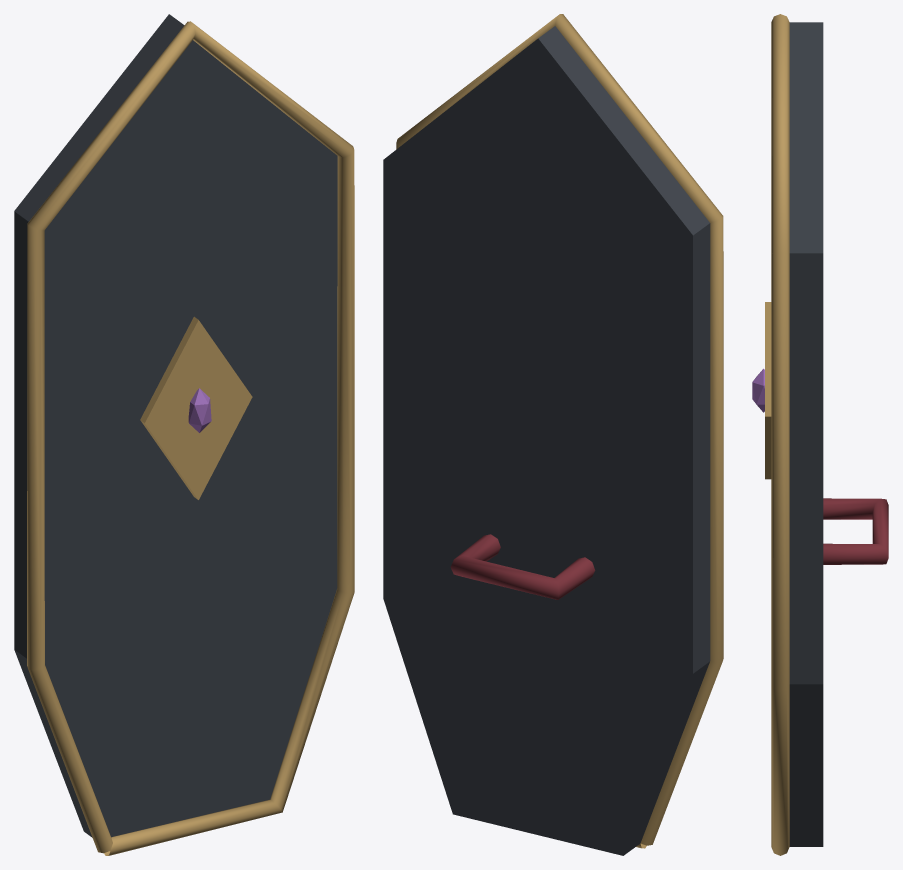
3 renders of one model, left to right at view 1: azimuth 30°, elevation 25°; view 2: azimuth 150°, elevation 25°; view 3: azimuth 270°, elevation 25°, orthographic.
Visible parts, largest first — view 1: TV-084 Tower Vigil; view 2: TV-084 Tower Vigil; view 3: TV-084 Tower Vigil.
Boxes of the visible parts, x1,y1,x2,y2 form: TV-084 Tower Vigil: (14,14,354,855); TV-084 Tower Vigil: (383,14,723,855); TV-084 Tower Vigil: (752,14,888,855).
Bounding box in the file's own units: 0.4836 × 1.15 × 0.1786.
